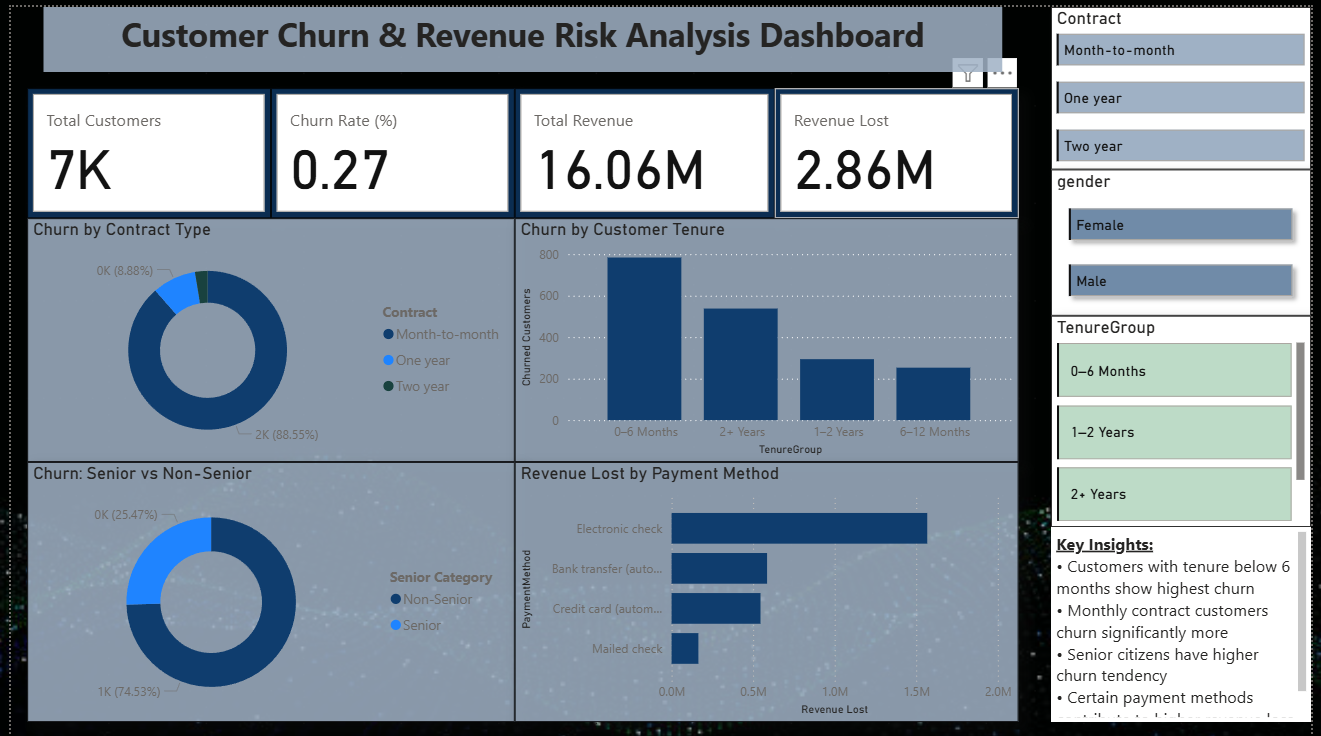

The dashboard page shown, as its layout file describes it:
{"tool":"powerbi","page":{"name":"Page 1","canvas":[1280,720],"ordinal":0},"visuals":[{"type":"cardVisual","fields":{"Data":["CustomerData.Total Customers"]},"box":[16,80,240,128],"z":0},{"type":"cardVisual","fields":{"Data":["CustomerData.Churn Rate (%)"]},"box":[256,80,240,128],"z":1},{"type":"cardVisual","fields":{"Data":["CustomerData.Total Revenue"]},"box":[496,80,256,128],"z":2},{"type":"cardVisual","fields":{"Data":["CustomerData.Revenue Lost"]},"box":[752,80,240,128],"z":3},{"type":"donutChart","title":"Churn by Contract Type","fields":{"Category":["CustomerData.Contract"],"Y":["CustomerData.Churned Customers"]},"box":[16,208,480,240],"z":4},{"type":"clusteredColumnChart","title":"Churn by Customer Tenure","fields":{"Category":["CustomerData.TenureGroup"],"Y":["CustomerData.Churned Customers"]},"box":[496,208,496,240],"z":5},{"type":"donutChart","title":"Churn: Senior vs Non-Senior","fields":{"Category":["CustomerData.Senior Category"],"Y":["CustomerData.Churned Customers"]},"box":[16,448,480,256],"z":6},{"type":"clusteredBarChart","title":"Revenue Lost by Payment Method","fields":{"Category":["CustomerData.PaymentMethod"],"Y":["CustomerData.Revenue Lost"]},"box":[496,448,496,256],"z":7},{"type":"advancedSlicerVisual","fields":{"Values":["CustomerData.Contract"]},"box":[1024,0,256,160],"z":8},{"type":"advancedSlicerVisual","fields":{"Values":["CustomerData.gender"]},"box":[1024,160,256,144],"z":9},{"type":"advancedSlicerVisual","fields":{"Values":["CustomerData.TenureGroup"]},"box":[1024,304,256,208],"z":10},{"type":"textbox","box":[1024,512,256,192],"z":11},{"type":"textbox","box":[32,0,944,64],"z":12}]}

Visuals, with their boxes in screenshot pixels (x1, y1, x2, y2), scaled from the page's 1280x720 canvas onto the 1321x736 screenshot:
cardVisual - CustomerData.Total Customers: BBox(17, 82, 264, 213)
cardVisual - CustomerData.Churn Rate (%): BBox(264, 82, 512, 213)
cardVisual - CustomerData.Total Revenue: BBox(512, 82, 776, 213)
cardVisual - CustomerData.Revenue Lost: BBox(776, 82, 1024, 213)
"Churn by Contract Type" donutChart: BBox(17, 213, 512, 458)
"Churn by Customer Tenure" clusteredColumnChart: BBox(512, 213, 1024, 458)
"Churn: Senior vs Non-Senior" donutChart: BBox(17, 458, 512, 720)
"Revenue Lost by Payment Method" clusteredBarChart: BBox(512, 458, 1024, 720)
advancedSlicerVisual - CustomerData.Contract: BBox(1057, 0, 1320, 164)
advancedSlicerVisual - CustomerData.gender: BBox(1057, 164, 1320, 311)
advancedSlicerVisual - CustomerData.TenureGroup: BBox(1057, 311, 1320, 523)
textbox: BBox(1057, 523, 1320, 720)
textbox: BBox(33, 0, 1007, 65)
